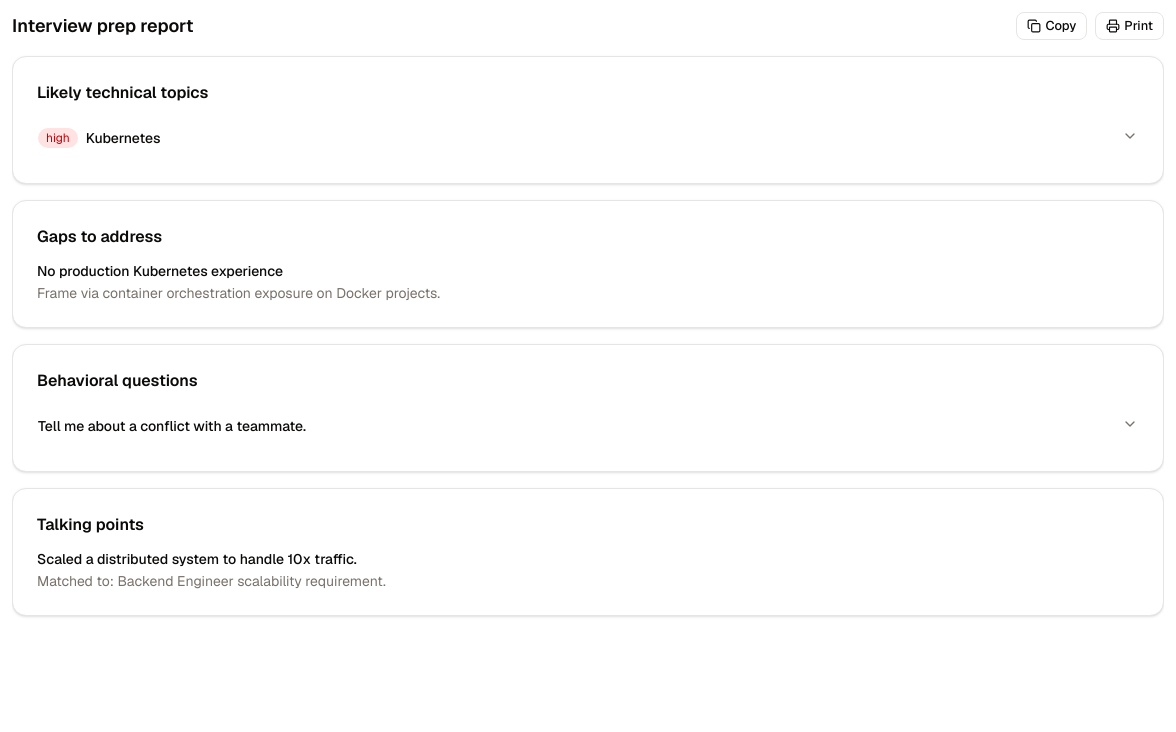
InterviewPrepReport › shows an error message and keeps the label as "Copy" when the clipboard write fails
Click the button "Copy" at (1052, 26), box [1016, 12, 1087, 40]
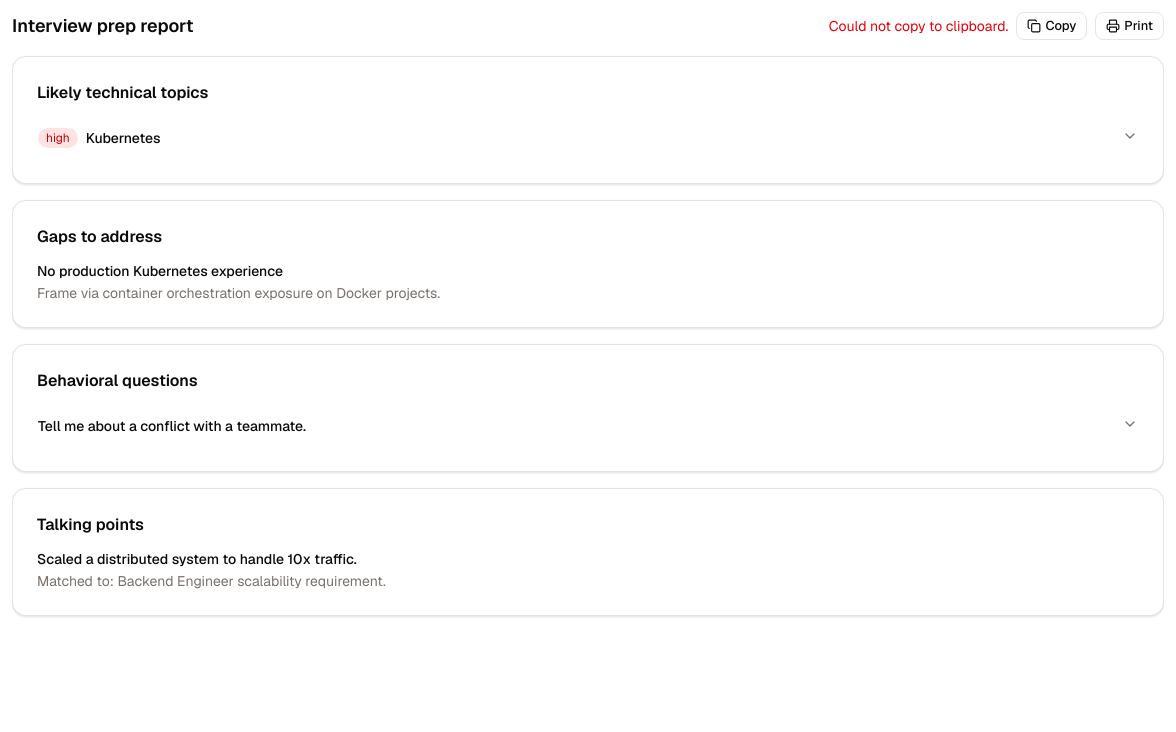
Expected: the text "Could not copy to clipboard." is shown, [829, 16, 1008, 36]
